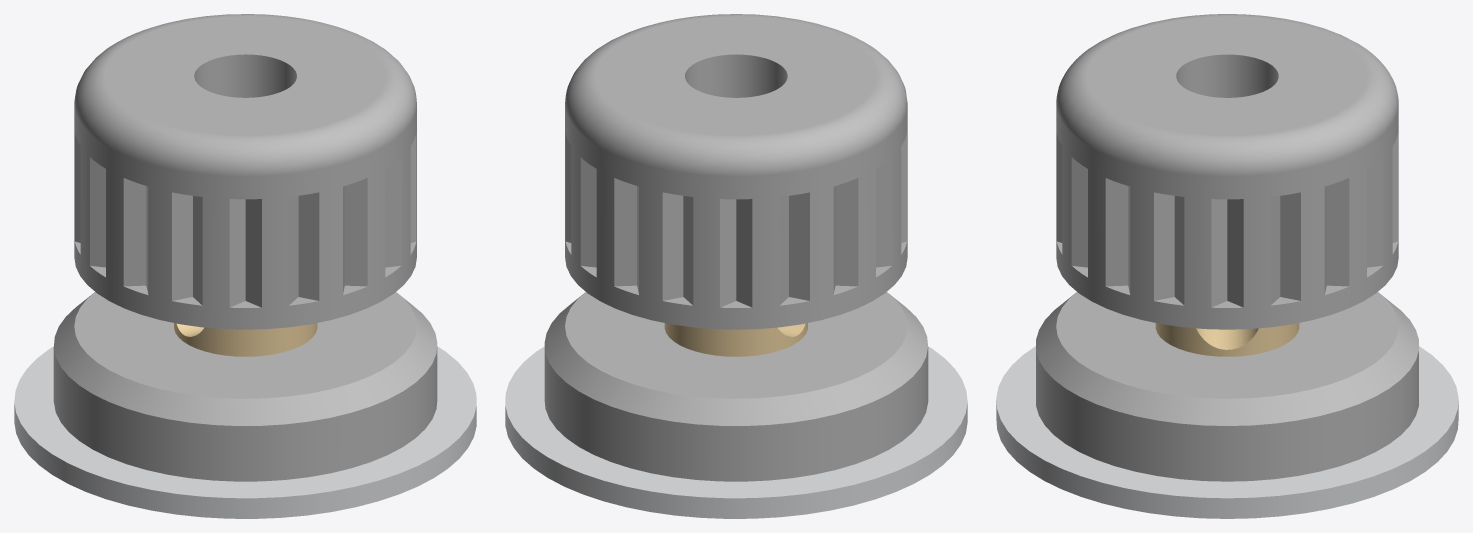
The model's file is binding-post.glb.
3 renders of one model, left to right at view 1: azimuth 30°, elevation 25°; view 2: azimuth 150°, elevation 25°; view 3: azimuth 270°, elevation 25°, orthographic.
Parts seen in each view (by area): view 1: binding_post; view 2: binding_post; view 3: binding_post.
Boxes of the visible parts, x1,y1,x2,y2 form: binding_post: [14, 14, 476, 518]; binding_post: [505, 14, 967, 518]; binding_post: [996, 14, 1458, 518].
Bounding box in the file's own units: 4.86 × 4 × 4.86.
